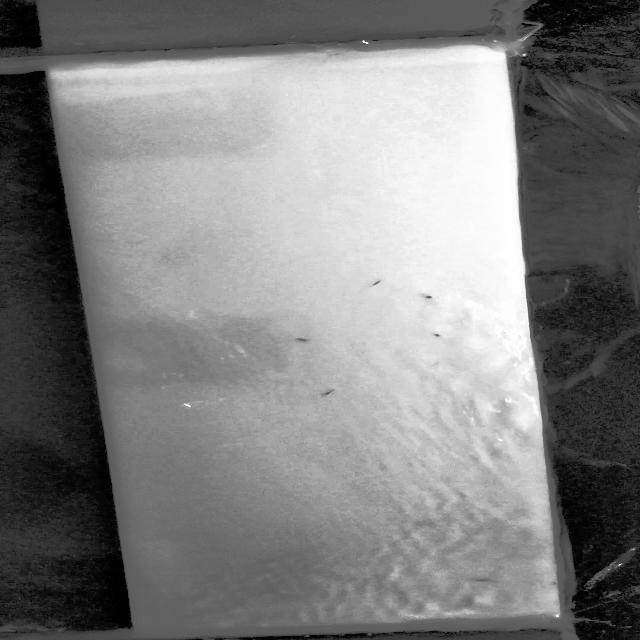shrimp: (364, 276, 390, 291), (315, 388, 346, 398), (291, 337, 321, 346), (466, 577, 504, 583), (428, 331, 448, 339), (422, 291, 432, 301)
